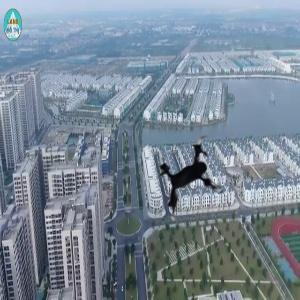drone: (143, 130, 248, 235)
